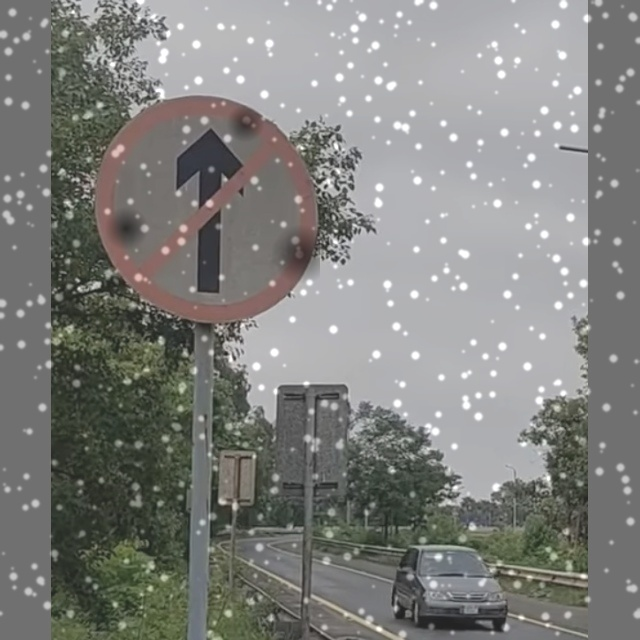No_Entry: (100, 98, 320, 324)
